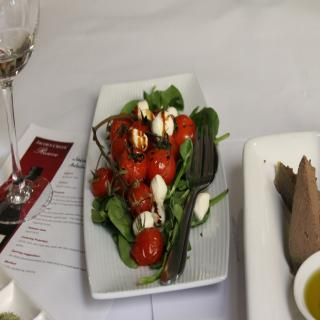tomato: (165, 115, 195, 159), (147, 152, 176, 188), (119, 147, 147, 184), (134, 229, 163, 264), (128, 178, 153, 218), (92, 167, 115, 200), (109, 137, 132, 164), (109, 114, 130, 138)
